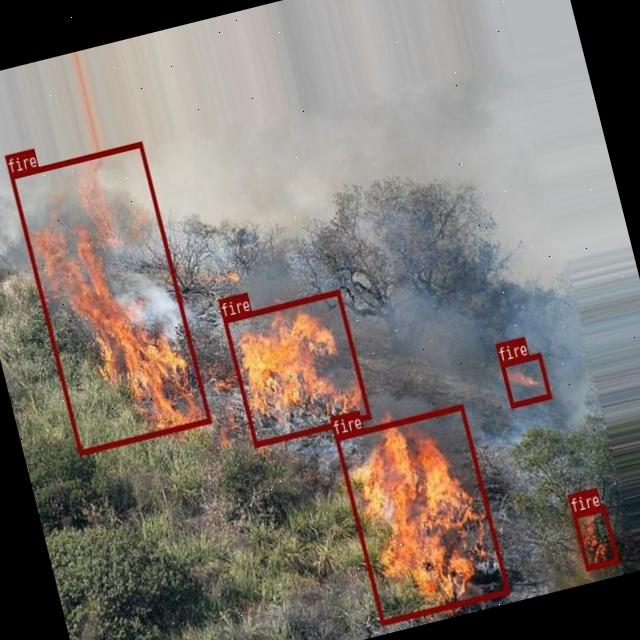fire: (8, 142, 210, 454), (334, 403, 508, 624), (221, 288, 370, 446), (570, 504, 618, 570), (500, 352, 550, 408)
